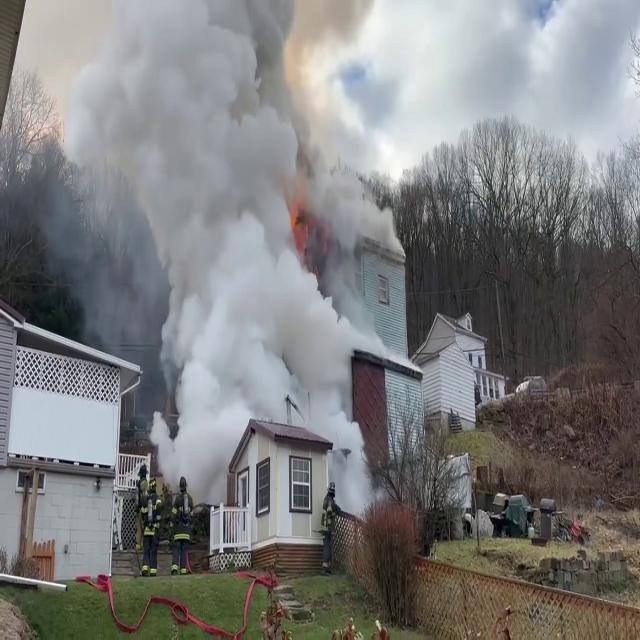Smoke: (42, 0, 378, 486)
